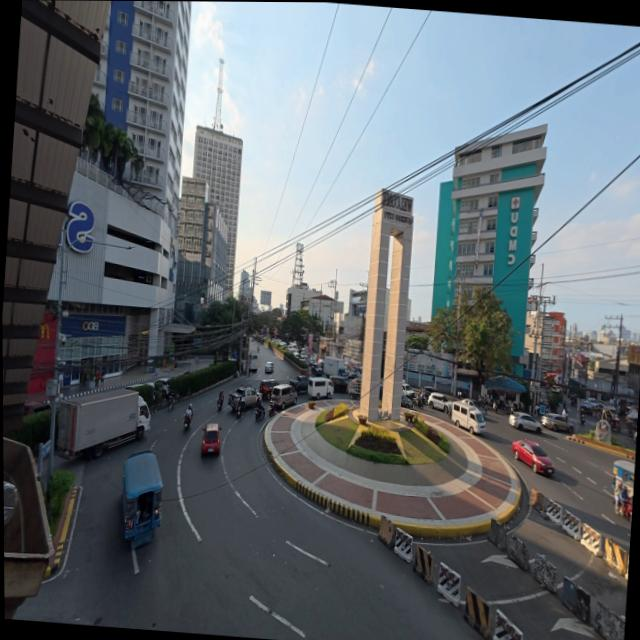car: (510, 438, 556, 476), (199, 420, 221, 455), (540, 414, 574, 436), (509, 410, 542, 432)
vans: (448, 396, 489, 433)
